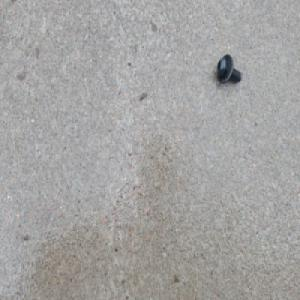BoltWasher: (215, 56, 242, 88)
